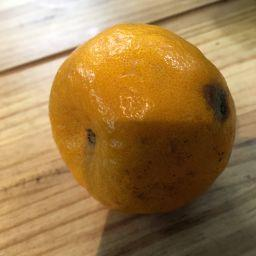Unripe: (48, 24, 235, 210)
